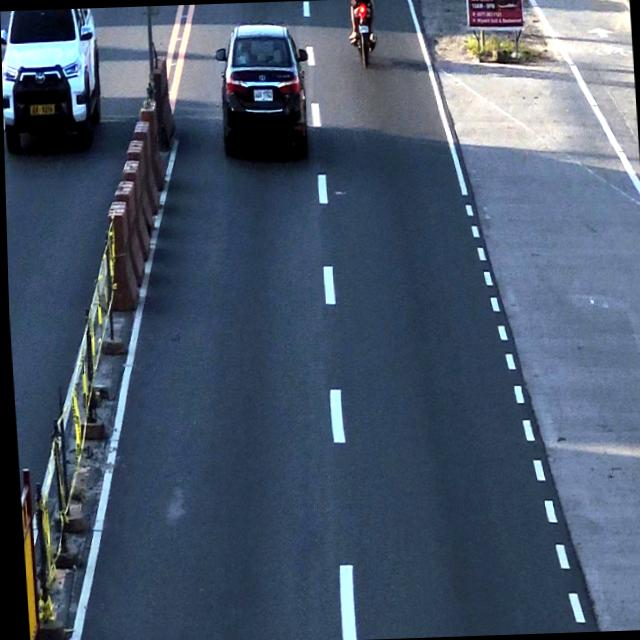Car: (216, 22, 306, 162)
License-Plate: (250, 84, 273, 102)
Motorcycle: (349, 0, 378, 68)
